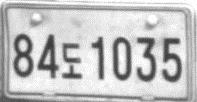0: (111, 36, 133, 80)
1: (89, 36, 106, 81)
3: (135, 36, 156, 81)
4: (36, 34, 59, 79)
5: (161, 37, 182, 82)
8: (12, 33, 34, 77)
도: (61, 42, 83, 79)
